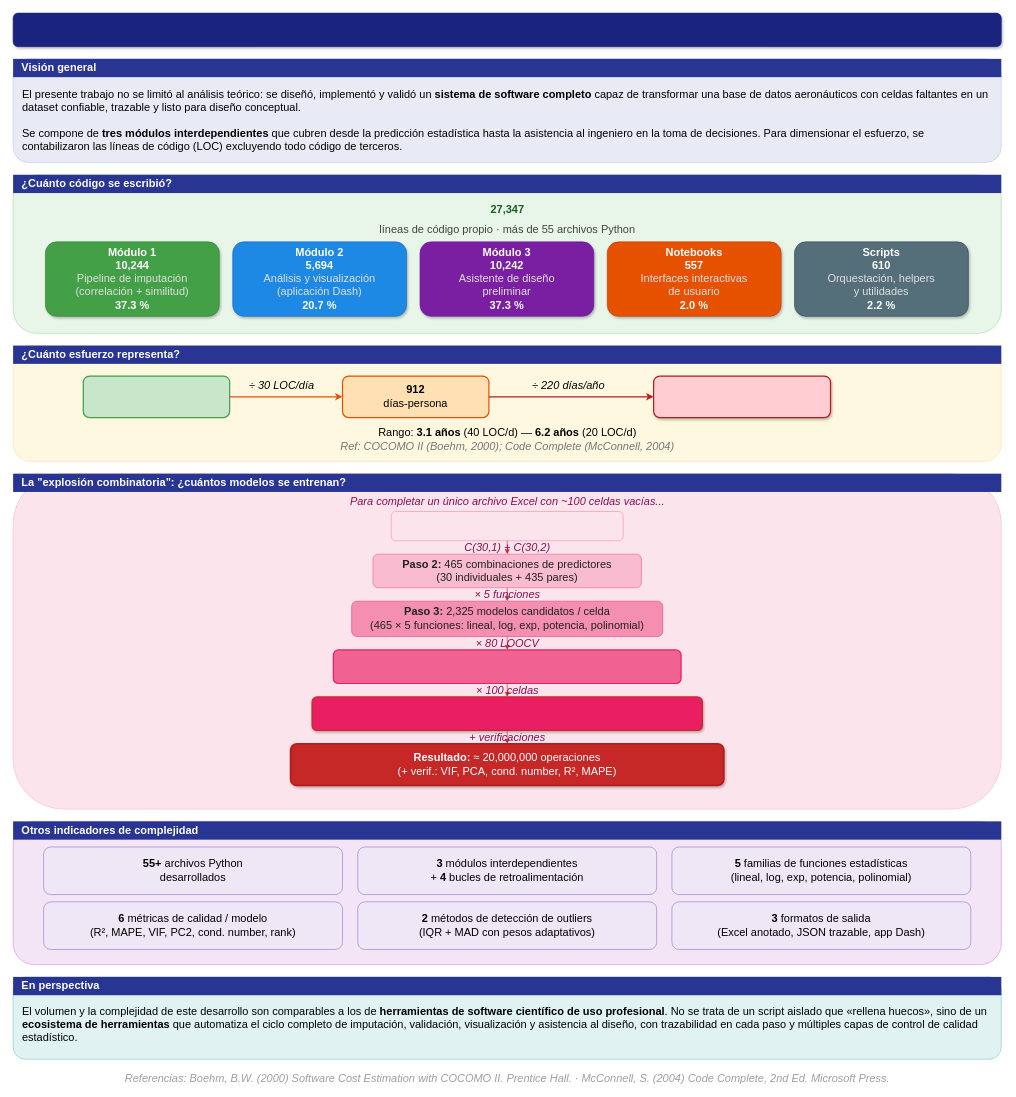
Image size: 1016x1097. Some labels were removed from this diagram. Each missing label, with the centre of its shape:
"27,347 líneas de código" goes at pixel 156 396.
"Alcance y complejidad del desarrollo de software" goes at pixel 507 30.
"Paso 1: 30 parámetros numéricos disponibles" goes at pixel 507 526.
"Paso 4: 186,000 ajustes / celda (2,325 modelos × 80 entrenamientos LOOCV)" goes at pixel 506 666.
"Paso 5: 18,600,000 ajustes de regresión (186,000 × 100 celdas faltantes)" goes at pixel 507 714.
"≈ 4.1 años-persona" goes at pixel 742 397.
